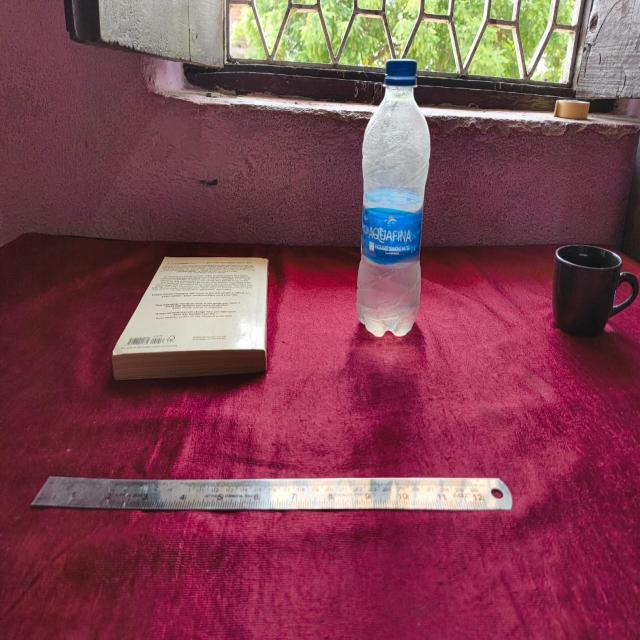Book: (112, 252, 271, 377)
Bottle: (362, 58, 431, 336)
Cup: (550, 244, 640, 336)
scale: (34, 474, 512, 510)
